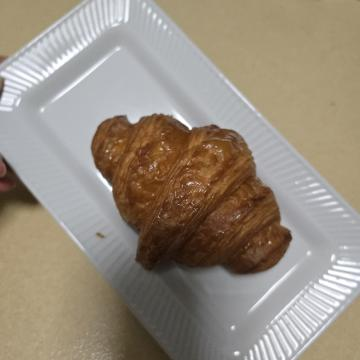croissant: (103, 63, 289, 287)
